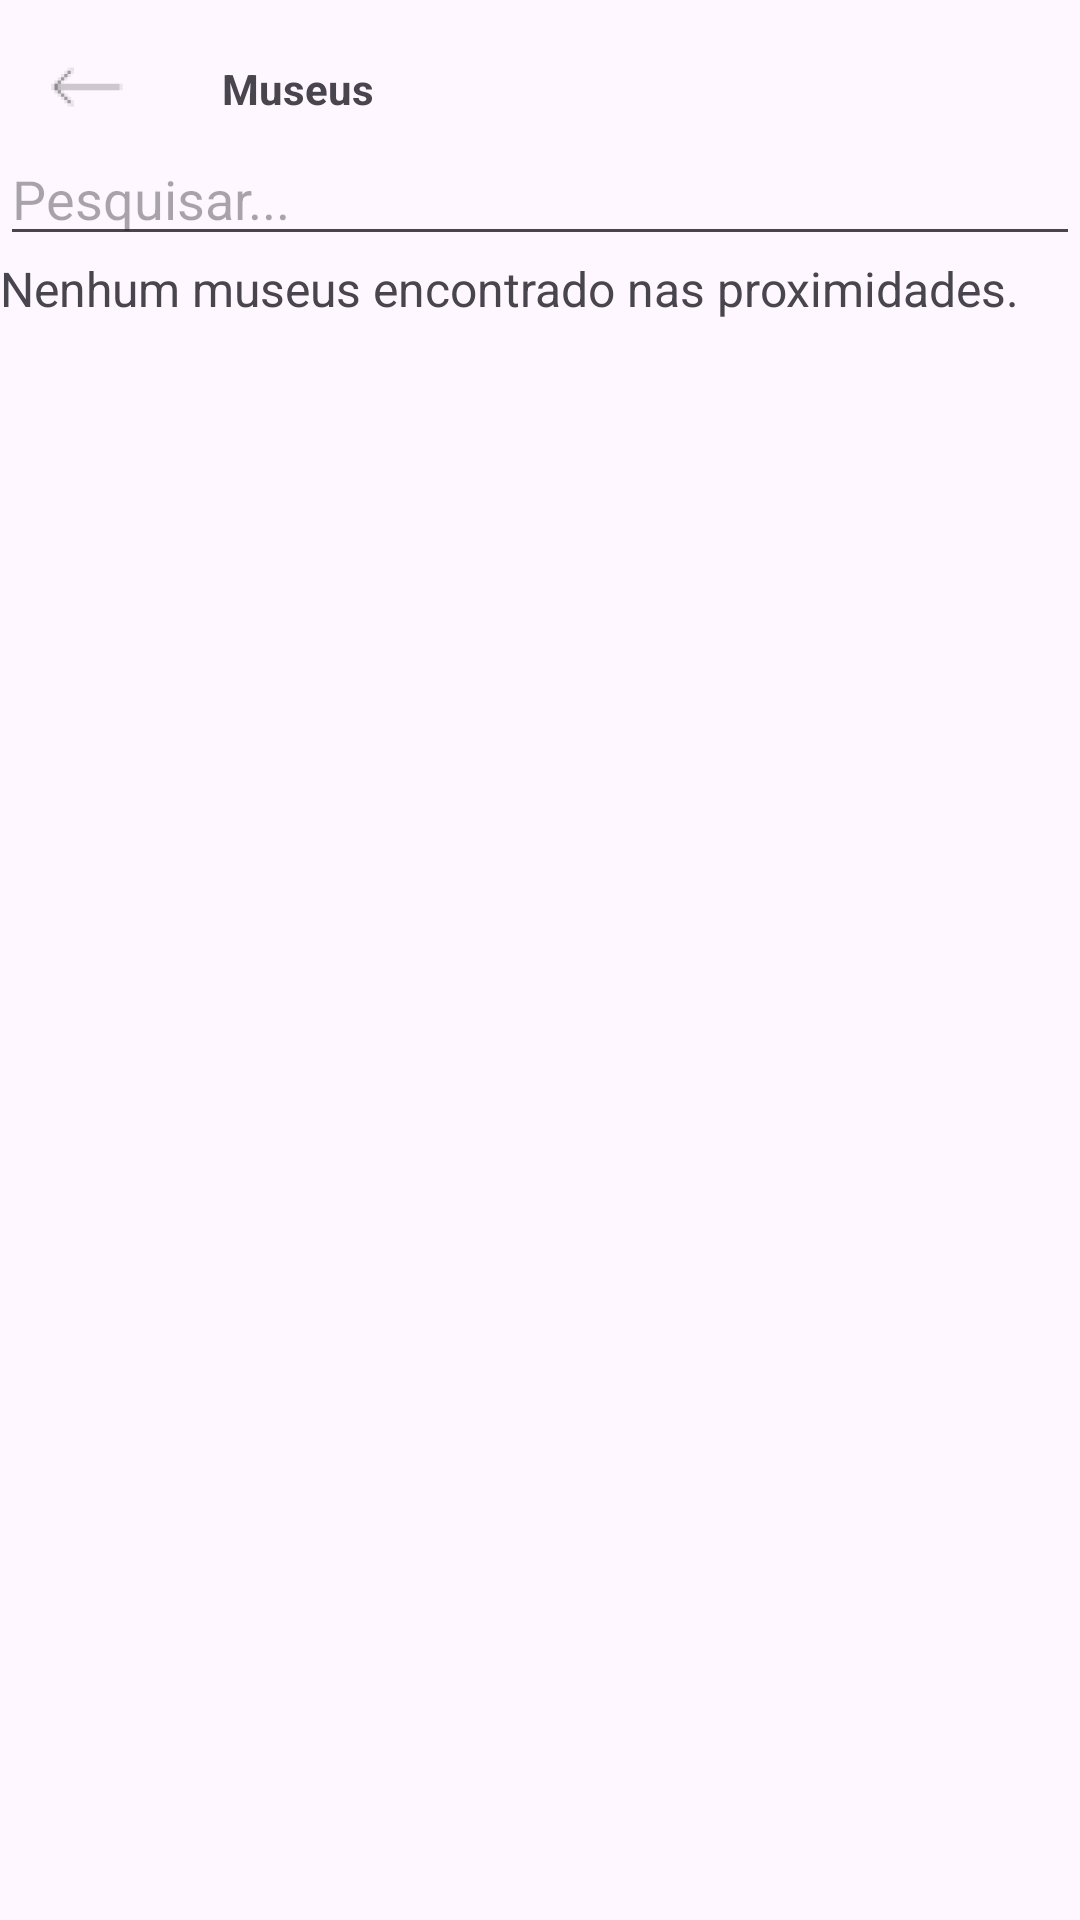

Where icons sit on this 1080 × 1920 app screen, as (x1, y1, x2, y2):
voltar: (54, 70, 120, 104)
